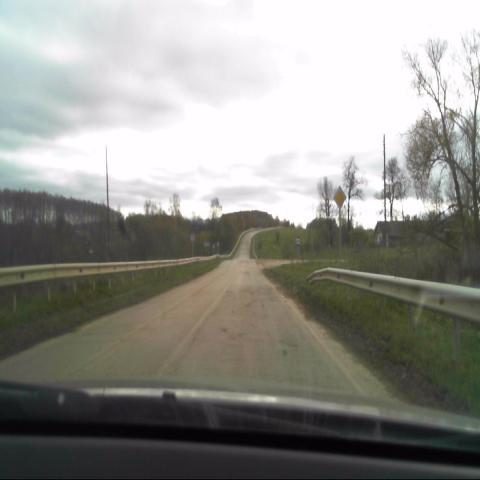2_1: (333, 184, 347, 211)
